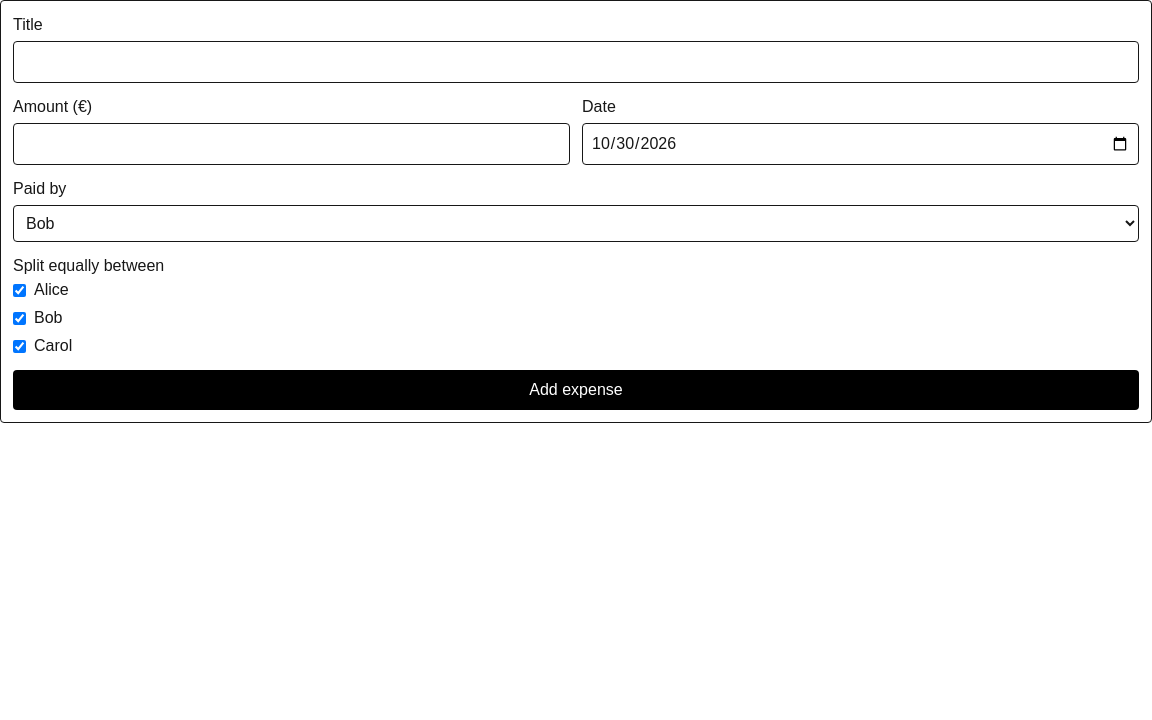
Test: ExpenseForm › showsSharePreviewPerParticipant
This screenshot has width=1152, height=720.
Type "Taxi" into the field labelled "Title" at (576, 62), box top-left (13, 41), bottom-right (1139, 83)
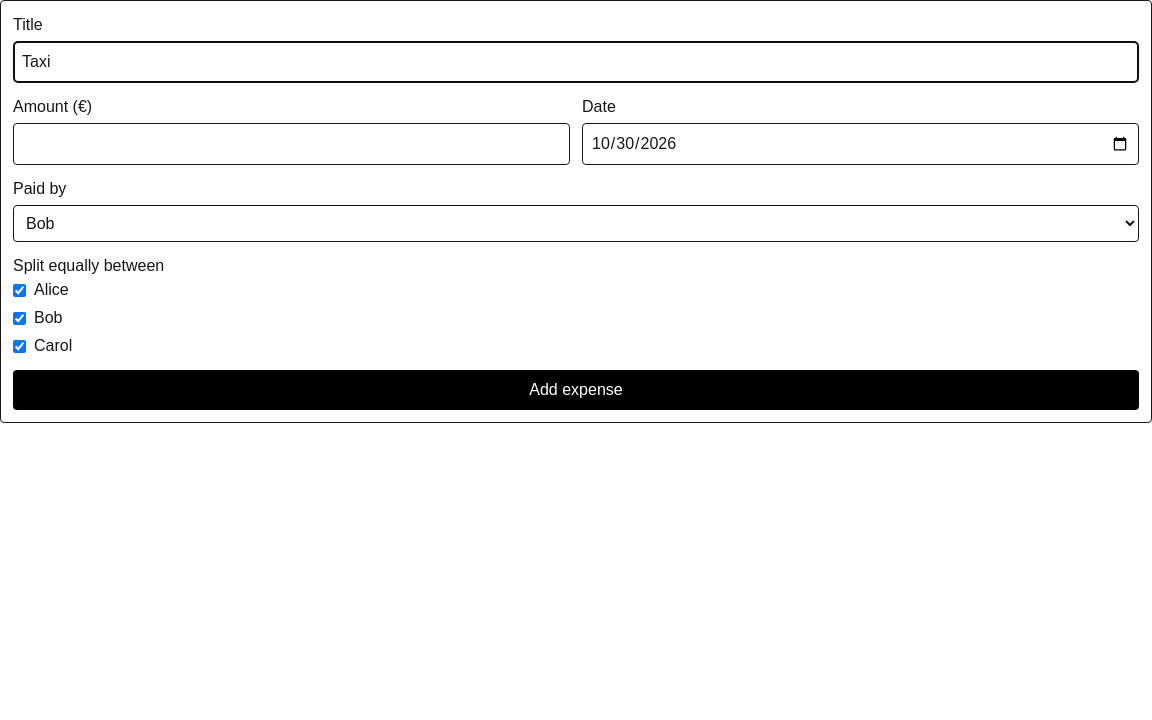
Type "10" into the field labelled "Amount (€)" at (292, 144), box top-left (13, 123), bottom-right (570, 165)
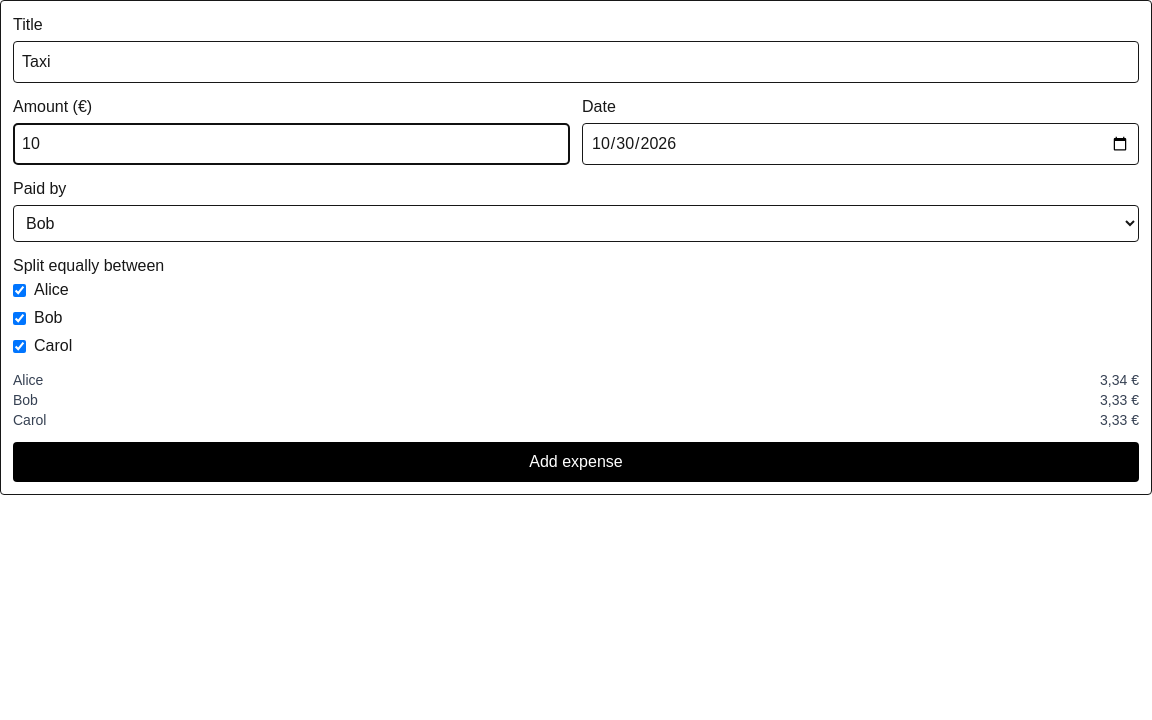
Now the list items read "Alice3,34 €", "Bob3,33 €", "Carol3,33 €", in this order, box top-left (13, 370), bottom-right (1139, 390); top-left (13, 390), bottom-right (1139, 410); top-left (13, 410), bottom-right (1139, 430)
